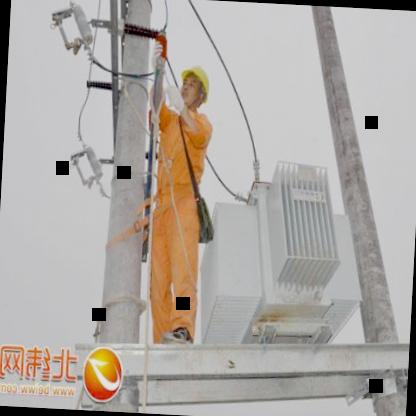helmet: (176, 57, 212, 114)
